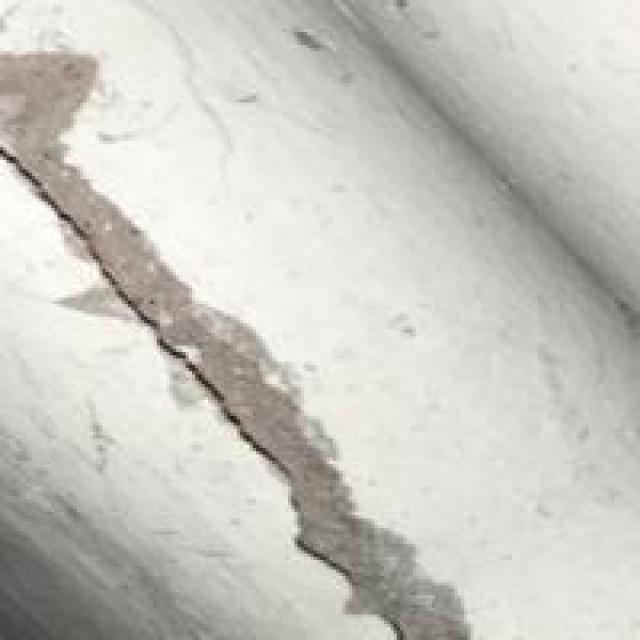Crack: (0, 112, 464, 637)
